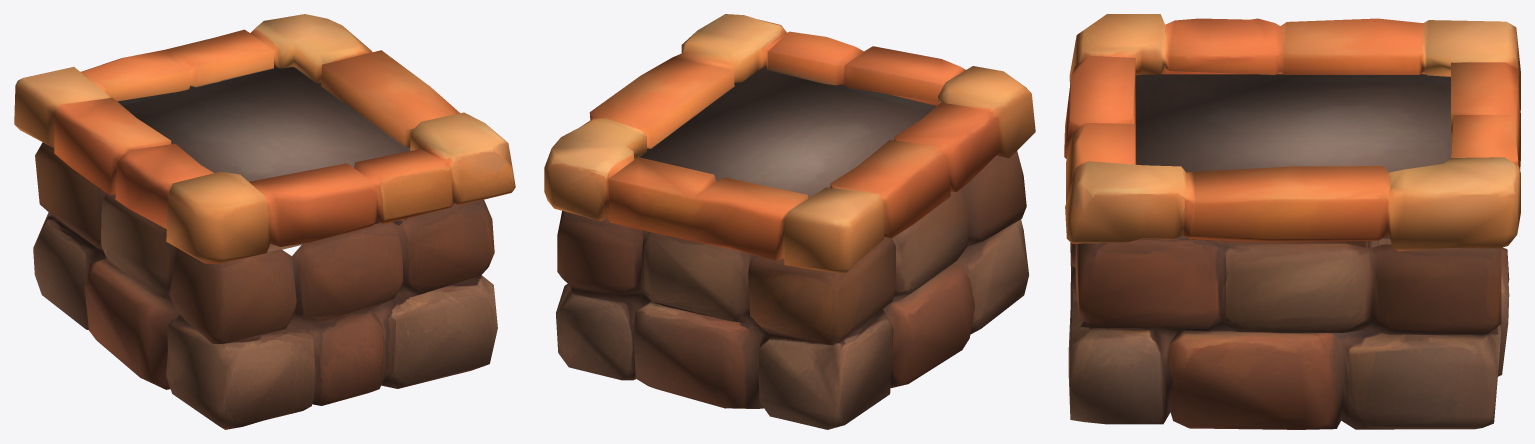
3 views of the same model, side by side, from view 1: azimuth 30°, elevation 25°; view 2: azimuth 150°, elevation 25°; view 3: azimuth 270°, elevation 25° (orthographic). The views are drawn at different scales.
Parts seen in each view (by area): view 1: tripo_node_92a0f4e3-523d-4e2e-b522-52a707423736; view 2: tripo_node_92a0f4e3-523d-4e2e-b522-52a707423736; view 3: tripo_node_92a0f4e3-523d-4e2e-b522-52a707423736.
Part boxes in pixels (x1,y1,x2,y2): tripo_node_92a0f4e3-523d-4e2e-b522-52a707423736: (14,14,515,429); tripo_node_92a0f4e3-523d-4e2e-b522-52a707423736: (544,14,1035,429); tripo_node_92a0f4e3-523d-4e2e-b522-52a707423736: (1064,14,1520,429).
Bounding box in the file's own units: 0.9082 × 0.627 × 0.998.
1 material, 1 textured.
